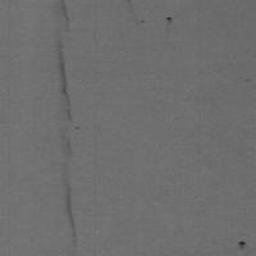Inclusion: (51, 0, 82, 256), (125, 0, 147, 24), (165, 15, 174, 29), (238, 239, 247, 251)
